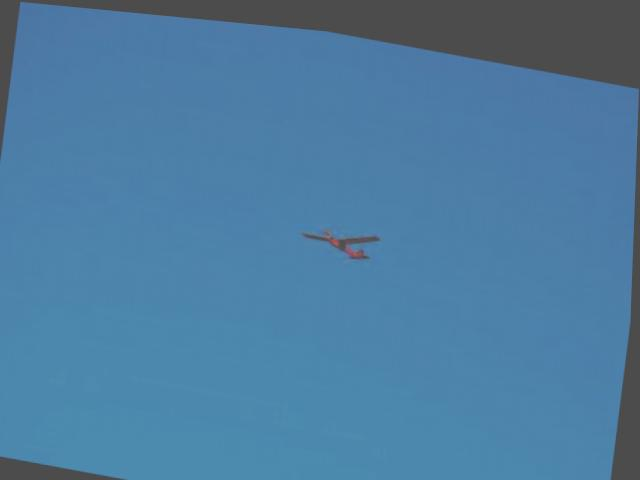iha: (293, 215, 382, 257)
